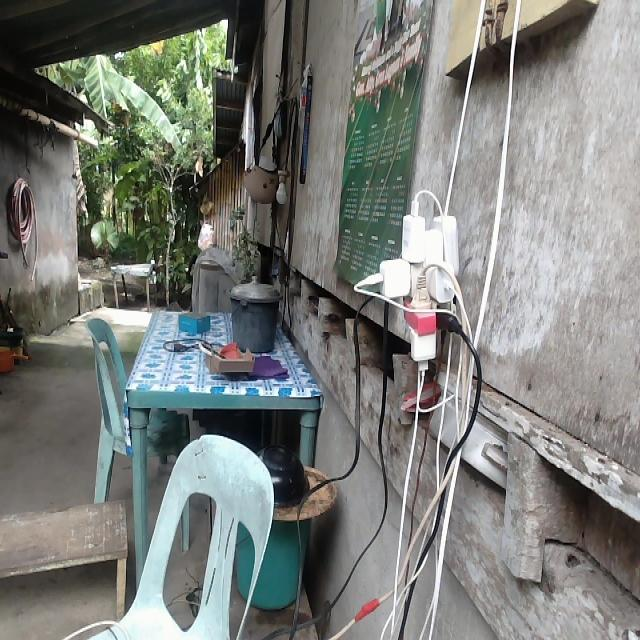-: (370, 200, 465, 367)
